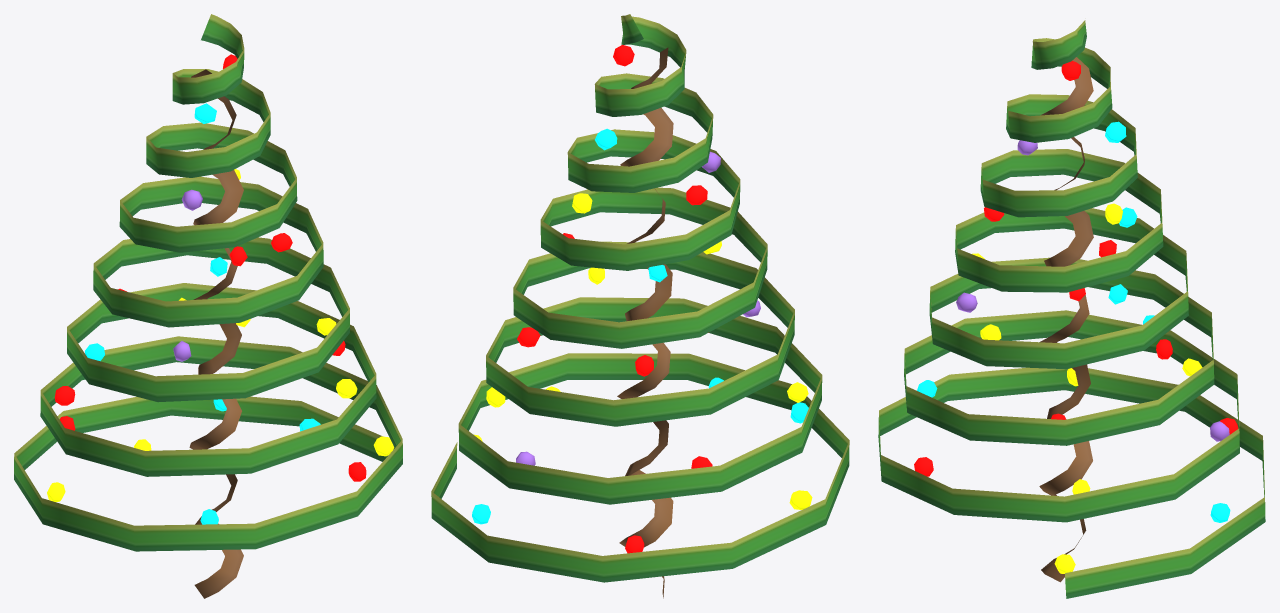
File: 005b3bbf-ba6f-42ee-99a0-6a64c18eb934.glb
3 views of the same model, side by side, from view 1: azimuth 30°, elevation 25°; view 2: azimuth 150°, elevation 25°; view 3: azimuth 270°, elevation 25° (orthographic). The views are drawn at different scales.
Parts seen in each view (by area): view 1: AbstractXmasTree, XmasLights; view 2: AbstractXmasTree, XmasLights; view 3: AbstractXmasTree, XmasLights.
Part boxes in pixels (x1=…): AbstractXmasTree: x1=14, y1=14, x2=402, y2=598; XmasLights: x1=47, y1=54, x2=394, y2=524; AbstractXmasTree: x1=431, y1=14, x2=849, y2=598; XmasLights: x1=472, y1=45, x2=812, y2=553; AbstractXmasTree: x1=878, y1=20, x2=1265, y2=598; XmasLights: x1=914, y1=60, x2=1238, y2=573.
Size of what is drawn, in the model's own units: 1.94 by 2.96 by 1.8.
2 materials, 2 textured.
